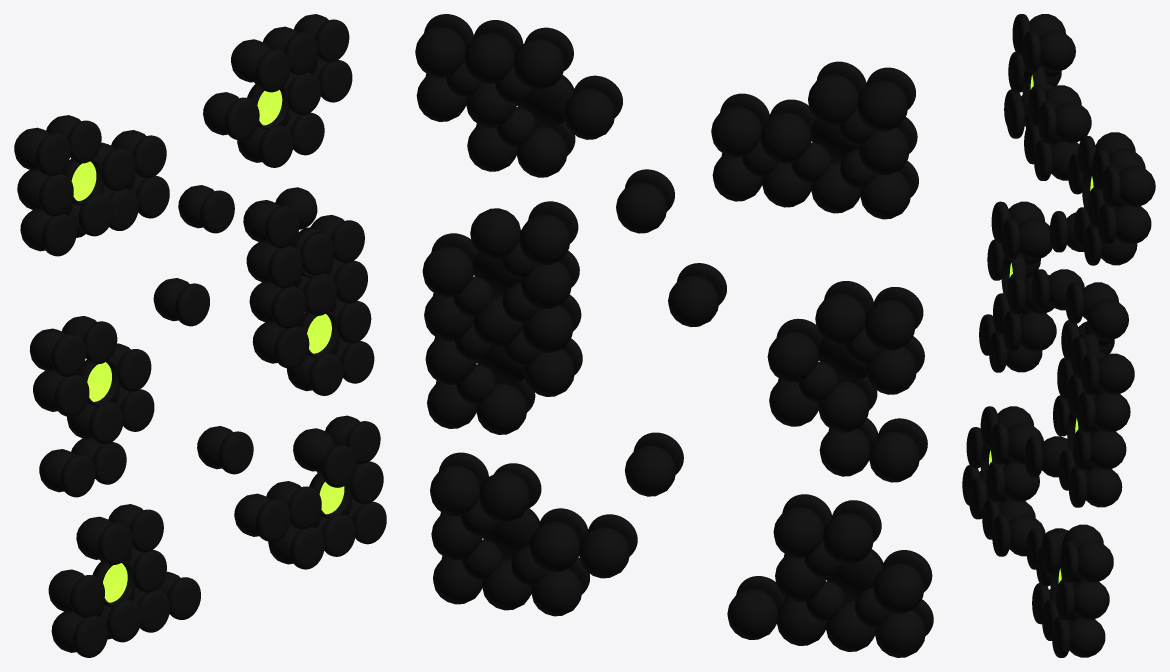
3 views of the same model, side by side, from view 1: azimuth 30°, elevation 25°; view 2: azimuth 150°, elevation 25°; view 3: azimuth 270°, elevation 25° (orthographic). The views are drawn at different scales.
Visible parts, largest first — view 1: plug_D, plug_C, plug_A, plug_F, plug_B, plug_E, eye_E_1_1, eye_D_8_5, eye_C_1_6, eye_B_7_11, eye_A_1_11, lid_A_1_11 (+58 smaller); view 2: plug_D, plug_A, plug_F, plug_E, plug_B, plug_C, plug_G, plug_I, plug_H, eye_B_7_11, eye_E_1_1, eye_F_8_1 (+17 smaller); view 3: plug_D, plug_A, plug_F, plug_B, plug_C, plug_E, plug_H, plug_G, stone_E_2_2, stone_G_5_3, stone_I_5_9, stone_A_3_11 (+57 smaller).
Part boxes in pixels (x1,y1,x2,y2): plug_D: [243, 187, 349, 391]; plug_C: [29, 316, 130, 492]; plug_A: [14, 115, 146, 251]; plug_F: [234, 415, 362, 564]; plug_B: [203, 14, 328, 162]; plug_E: [48, 504, 180, 652]; eye_E_1_1: [92, 560, 134, 607]; eye_D_8_5: [299, 311, 339, 358]; eye_C_1_6: [79, 359, 119, 406]; eye_B_7_11: [247, 83, 289, 129]; eye_A_1_11: [64, 158, 103, 205]; lid_A_1_11: [78, 193, 113, 236]; plug_D: [422, 208, 574, 434]; plug_A: [711, 74, 911, 219]; plug_F: [430, 465, 629, 616]; plug_E: [727, 507, 925, 657]; plug_B: [415, 27, 615, 177]; plug_C: [767, 293, 919, 482]; plug_G: [624, 445, 675, 496]; plug_I: [616, 182, 667, 233]; plug_H: [668, 276, 719, 326]; eye_B_7_11: [517, 75, 574, 126]; eye_E_1_1: [826, 549, 883, 601]; eye_F_8_1: [482, 507, 539, 559]; plug_D: [1078, 282, 1134, 507]; plug_A: [1021, 14, 1091, 180]; plug_F: [1043, 524, 1113, 657]; plug_B: [1095, 132, 1155, 265]; plug_C: [1006, 201, 1056, 372]; plug_E: [979, 406, 1045, 556]; plug_H: [1048, 269, 1084, 310]; plug_G: [1041, 436, 1068, 477]; stone_E_2_2: [990, 423, 1009, 464]; stone_G_5_3: [1024, 436, 1043, 477]; stone_I_5_9: [1049, 211, 1068, 252]; stone_A_3_11: [1038, 102, 1056, 143].
Size of the model in its own units: 1.73 by 2.21 by 0.7977.
